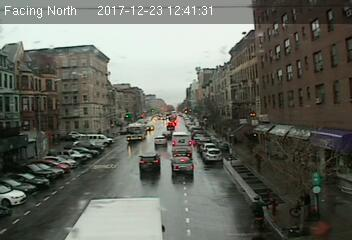bus: (127, 124, 146, 141)
car: (137, 154, 161, 173), (170, 156, 194, 173), (202, 147, 221, 163), (153, 135, 167, 146)
pedestrian: (250, 195, 268, 232)
truck: (171, 132, 192, 147)
